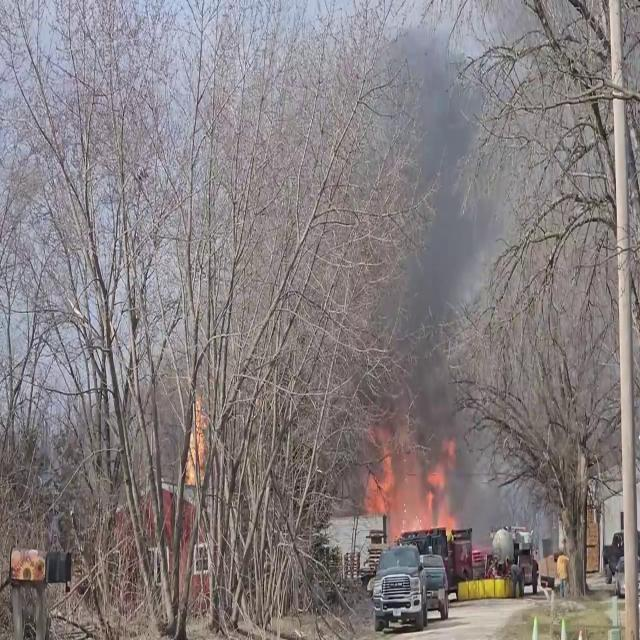Fire: (360, 436, 460, 538), (185, 382, 208, 488)
Smoke: (387, 34, 488, 517)
